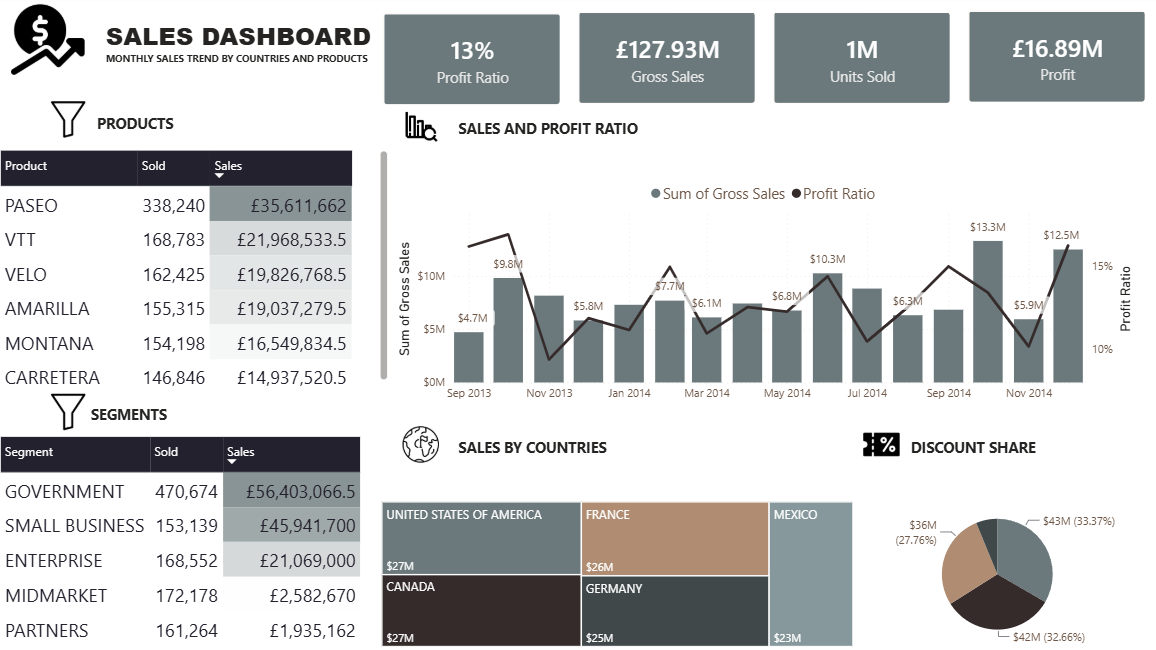

What the dashboard file says about the page in this screenshot:
{"tool":"powerbi","page":{"name":"Page 1","canvas":[1280,720],"ordinal":0},"visuals":[{"type":"cardVisual","fields":{"Data":["Sum(financials.Gross Sales)"]},"box":[622.9,1.4,229.2,135.8],"z":0,"group":"g1"},{"type":"lineStackedColumnComboChart","fields":{"Category":["Calendar.Date"],"Y":["Sum(financials.Gross Sales)"],"Y2":["_calc.Profit Ratio"]},"box":[436.4,196.2,817.8,259.3],"z":0},{"type":"group","id":"g1","title":"Group 1","box":[408.9,0,871.4,138.6],"z":1000},{"type":"cardVisual","fields":{"Data":["Sum(financials.Units Sold)"]},"box":[837,1.4,229.2,135.8],"z":1000,"group":"g1"},{"type":"cardVisual","fields":{"Data":["Sum(financials.Profit)"]},"box":[1051,0,229.2,135.8],"z":2000,"group":"g1"},{"type":"tableEx","fields":{"Values":["financials.Product","Sum(financials.Units Sold)","Sum(financials.Gross Sales)"]},"box":[0,166,436.4,270.3],"z":2000},{"type":"cardVisual","fields":{"Data":["_calc.Profit Ratio"]},"box":[408.9,2.7,229.2,135.8],"z":3000,"group":"g1"},{"type":"tableEx","fields":{"Values":["financials.Segment","Sum(financials.Units Sold)","Sum(financials.Gross Sales)"]},"box":[0,480.4,409.1,239.5],"z":3000},{"type":"treemap","fields":{"Group":["financials.Country"],"Values":["Sum(financials.Gross Sales)"]},"box":[419.9,551.6,526.9,168.8],"z":4000},{"type":"pieChart","fields":{"Y":["Sum(financials.Gross Sales)"],"Category":["financials.Discount Band"]},"box":[946.8,551.6,307.4,168.8],"z":5000},{"type":"textbox","box":[116.6,20.6,303.3,67.2],"z":6000},{"type":"image","box":[0,6.9,116.6,81],"z":7000},{"type":"textbox","box":[116.6,54.9,303.3,35.7],"z":8000},{"type":"textbox","box":[106.9,125.4,98.4,35.6],"z":9000},{"type":"textbox","box":[99.8,444.7,98.4,35.6],"z":10000},{"type":"textbox","box":[503.6,130.4,220.9,45.3],"z":11000},{"type":"textbox","box":[503.2,480.4,196.7,34.2],"z":12000},{"type":"textbox","box":[1000.6,480.4,165.3,37.1],"z":13000},{"type":"image","box":[952.2,473.2,41.3,39.9],"z":14000},{"type":"image","box":[447.6,125.4,41.3,39.9],"z":15000},{"type":"image","box":[59.9,437.6,39.9,39.9],"z":16000},{"type":"image","box":[59.9,116.9,39.9,39.9],"z":17000},{"type":"image","box":[447.6,473.2,39.9,39.9],"z":18000}]}

Visuals, with their boxes in screenshot pixels (x1, y1, x2, y2), scaled from the page's 1280x720 canvas onto the 1156x650 screenshot:
cardVisual - Sum(financials.Gross Sales): x1=563, y1=1, x2=770, y2=124
lineStackedColumnComboChart - Calendar.Date x Sum(financials.Gross Sales): x1=394, y1=177, x2=1133, y2=411
"Group 1" group: x1=369, y1=0, x2=1155, y2=125
cardVisual - Sum(financials.Units Sold): x1=756, y1=1, x2=963, y2=124
cardVisual - Sum(financials.Profit): x1=949, y1=0, x2=1155, y2=123
tableEx - financials.Product x Sum(financials.Units Sold): x1=0, y1=150, x2=394, y2=394
cardVisual - _calc.Profit Ratio: x1=369, y1=2, x2=576, y2=125
tableEx - financials.Segment x Sum(financials.Units Sold): x1=0, y1=434, x2=369, y2=649
treemap - financials.Country x Sum(financials.Gross Sales): x1=379, y1=498, x2=855, y2=649
pieChart - Sum(financials.Gross Sales) x financials.Discount Band: x1=855, y1=498, x2=1133, y2=649
textbox: x1=105, y1=19, x2=379, y2=79
image: x1=0, y1=6, x2=105, y2=79
textbox: x1=105, y1=50, x2=379, y2=82
textbox: x1=97, y1=113, x2=185, y2=145
textbox: x1=90, y1=401, x2=179, y2=434
textbox: x1=455, y1=118, x2=654, y2=159
textbox: x1=454, y1=434, x2=632, y2=465
textbox: x1=904, y1=434, x2=1053, y2=467
image: x1=860, y1=427, x2=897, y2=463
image: x1=404, y1=113, x2=442, y2=149
image: x1=54, y1=395, x2=90, y2=431
image: x1=54, y1=106, x2=90, y2=142
image: x1=404, y1=427, x2=440, y2=463
